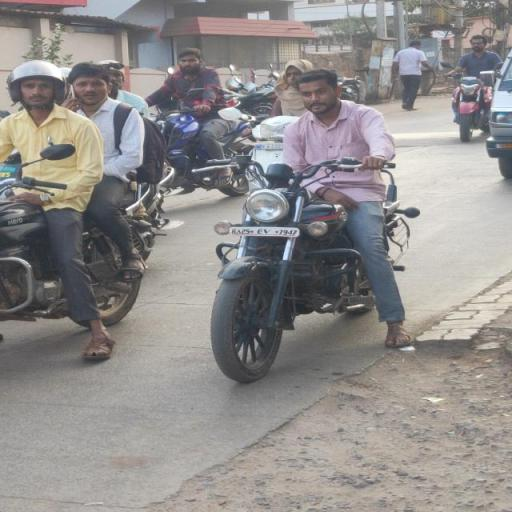bike: (202, 66, 426, 382)
numberplate: (227, 226, 301, 236)
withouthelmet: (296, 70, 338, 112)
